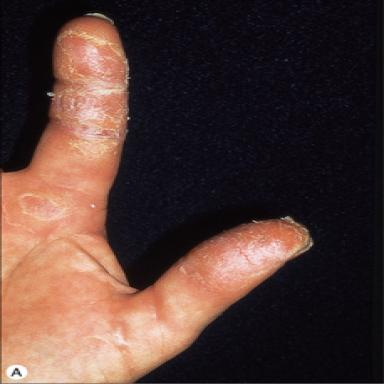eczema: (176, 218, 309, 307), (49, 28, 128, 162)
